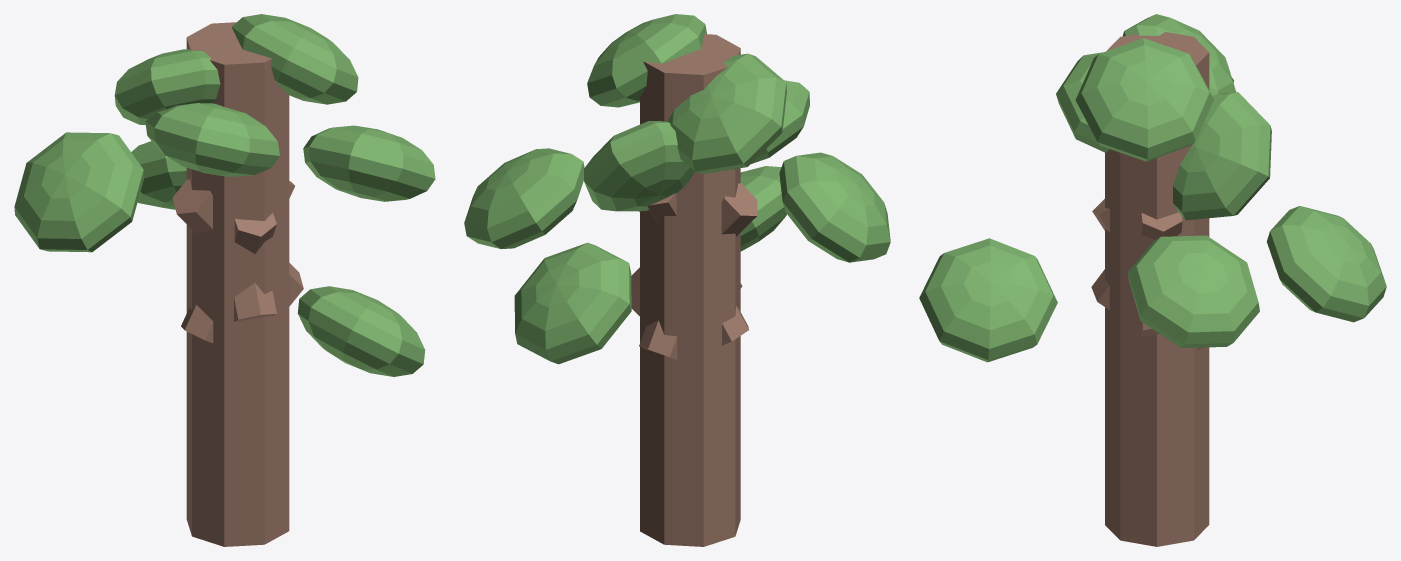
File: apple_sapling.glb
The picture shows the model from 3 angles, left to right: view 1: azimuth 30°, elevation 25°; view 2: azimuth 150°, elevation 25°; view 3: azimuth 270°, elevation 25°; orthographic projection. The views are drawn at different scales.
Visible parts, largest first — view 1: AppleSapling_trunk, AppleSapling_leaf_3, AppleSapling_leaf_4, AppleSapling_leaf_1, AppleSapling_leaf_5, AppleSapling_leaf_7, AppleSapling_leaf_6, AppleSapling_leaf_2, AppleSapling_branch_4, AppleSapling_branch_3, AppleSapling_branch_1, AppleSapling_branch_2; view 2: AppleSapling_trunk, AppleSapling_leaf_2, AppleSapling_leaf_6, AppleSapling_leaf_3, AppleSapling_leaf_1, AppleSapling_leaf_8, AppleSapling_leaf_7, AppleSapling_leaf_4, AppleSapling_branch_4, AppleSapling_leaf_5, AppleSapling_branch_1, AppleSapling_branch_2 (+1 smaller); view 3: AppleSapling_trunk, AppleSapling_leaf_4, AppleSapling_leaf_7, AppleSapling_leaf_1, AppleSapling_leaf_2, AppleSapling_leaf_8, AppleSapling_leaf_6, AppleSapling_leaf_5, AppleSapling_branch_2.
Part boxes in pixels (<box>): AppleSapling_trunk: <box>186,22,289,546</box>; AppleSapling_leaf_3: <box>14,132,144,252</box>; AppleSapling_leaf_4: <box>297,286,425,376</box>; AppleSapling_leaf_1: <box>303,125,435,201</box>; AppleSapling_leaf_5: <box>145,103,279,176</box>; AppleSapling_leaf_7: <box>231,14,358,104</box>; AppleSapling_leaf_6: <box>114,49,220,124</box>; AppleSapling_leaf_2: <box>131,141,186,209</box>; AppleSapling_branch_4: <box>172,179,303,306</box>; AppleSapling_branch_3: <box>234,283,276,321</box>; AppleSapling_branch_1: <box>234,213,276,254</box>; AppleSapling_branch_2: <box>181,181,294,343</box>; AppleSapling_trunk: <box>640,34,740,546</box>; AppleSapling_leaf_2: <box>514,242,631,364</box>; AppleSapling_leaf_6: <box>667,53,786,173</box>; AppleSapling_leaf_3: <box>779,152,890,262</box>; AppleSapling_leaf_1: <box>464,148,584,248</box>; AppleSapling_leaf_8: <box>584,121,694,211</box>; AppleSapling_leaf_7: <box>587,14,706,107</box>; AppleSapling_leaf_4: <box>740,166,786,251</box>; AppleSapling_branch_4: <box>631,183,757,316</box>; AppleSapling_leaf_5: <box>733,80,809,169</box>; AppleSapling_branch_1: <box>639,320,677,359</box>; AppleSapling_branch_2: <box>639,211,748,345</box>; AppleSapling_trunk: <box>1105,32,1209,546</box>; AppleSapling_leaf_4: <box>919,238,1057,362</box>; AppleSapling_leaf_7: <box>1075,38,1213,161</box>; AppleSapling_leaf_1: <box>1128,235,1259,348</box>; AppleSapling_leaf_2: <box>1266,206,1386,322</box>; AppleSapling_leaf_8: <box>1173,92,1271,220</box>; AppleSapling_leaf_6: <box>1123,14,1235,95</box>; AppleSapling_leaf_5: <box>1056,52,1109,152</box>; AppleSapling_branch_2: <box>1141,212,1182,239</box>.
Size of the model in its own units: 0.3996 by 0.469 by 0.4037.
